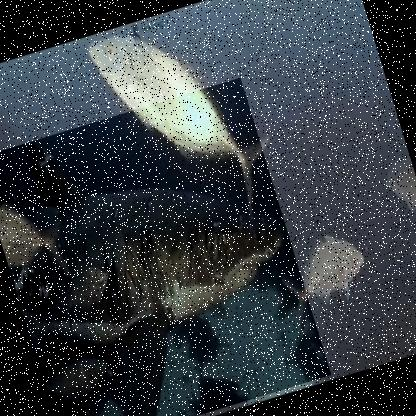white-shark: (0, 77, 333, 415)
